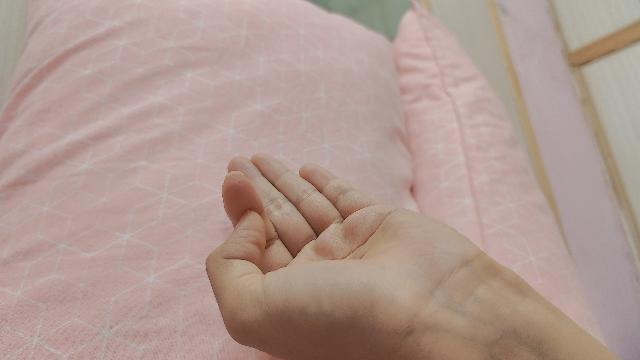aral: (205, 155, 618, 360)
